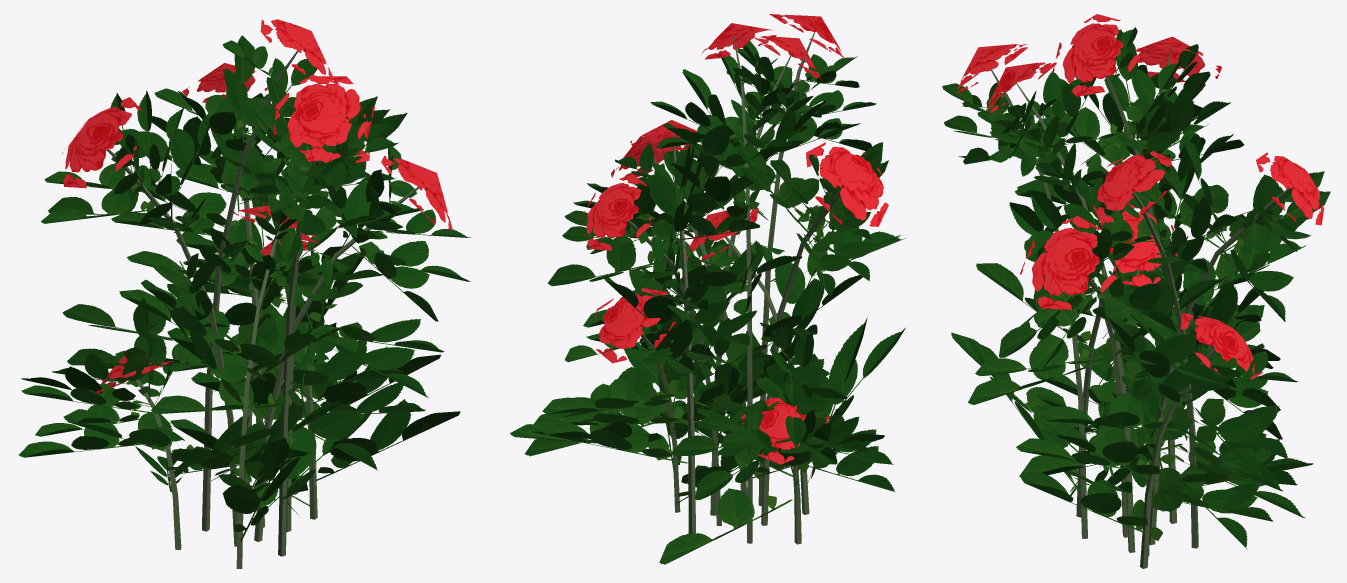
Rendered from red_rose_1k.glb.
3 views of the same model, side by side, from view 1: azimuth 30°, elevation 25°; view 2: azimuth 150°, elevation 25°; view 3: azimuth 270°, elevation 25° (orthographic). The views are drawn at different scales.
Parts seen in each view (by area): view 1: FloribundaRose_Leaves, FloribundaRose_Petals, FloribundaRose_Stems; view 2: FloribundaRose_Leaves, FloribundaRose_Petals, FloribundaRose_Stems; view 3: FloribundaRose_Leaves, FloribundaRose_Petals, FloribundaRose_Stems.
Boxes of the visible parts, x1,y1,x2,y2 form: FloribundaRose_Leaves: (18, 35, 471, 541); FloribundaRose_Petals: (62, 19, 452, 393); FloribundaRose_Stems: (107, 50, 418, 568); FloribundaRose_Leaves: (509, 41, 905, 564); FloribundaRose_Petals: (580, 14, 888, 464); FloribundaRose_Stems: (627, 32, 840, 544); FloribundaRose_Leaves: (942, 27, 1330, 556); FloribundaRose_Petals: (956, 14, 1324, 380); FloribundaRose_Stems: (991, 46, 1290, 568).
Size of the model in its own units: 1.29 by 1.65 by 1.14.
Materials: 3 (2 with a texture image).
